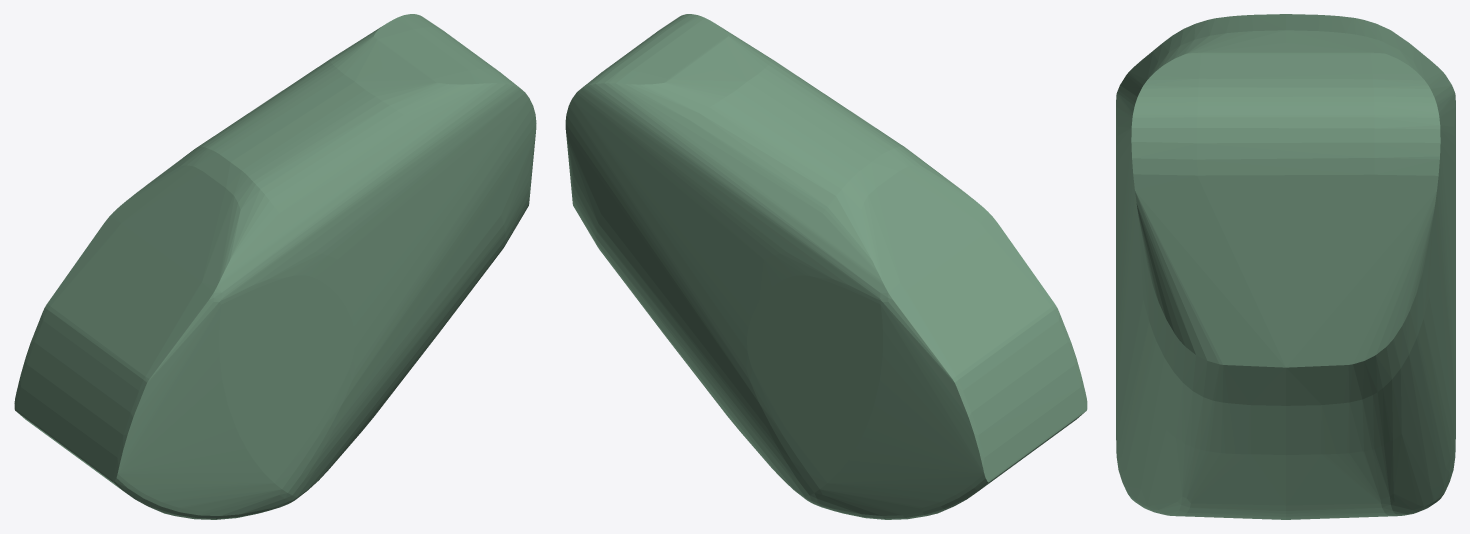
Rendered from right_thumb_intermediate.obj.
3 renders of one model, left to right at view 1: azimuth 30°, elevation 25°; view 2: azimuth 150°, elevation 25°; view 3: azimuth 270°, elevation 25°, orthographic. The views are drawn at different scales.
Visible parts, largest first — view 1: geometry_0; view 2: geometry_0; view 3: geometry_0.
Boxes of the visible parts, left/top/right/bottom form: geometry_0: left=14, top=14, right=536, bottom=519; geometry_0: left=565, top=14, right=1087, bottom=519; geometry_0: left=1116, top=14, right=1455, bottom=519.
Bounding box in the file's own units: 0.0378 × 0.0306 × 0.0162.
